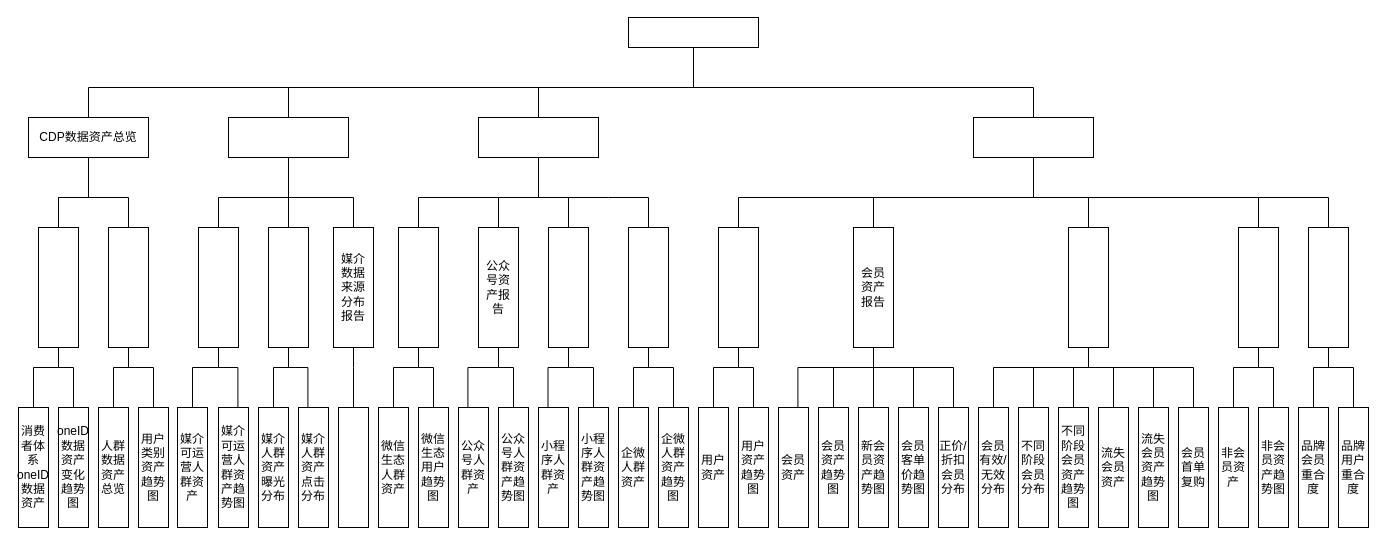
The diagram is 1386 pixels wide and 545 high, and some of its shapes have lost their labels. Here are the shapes that lost their labels. From the top down, the centre of each, then its label:
(693,32): D ash board 看板 功能
(288,137): 媒介资产看板
(538,137): 微信生态人群看板
(1033,137): 用户资产看板
(58,287): 消费 者体 系OneID数据 资产
(128,287): 人群 数据 资产 总览
(218,287): 媒介 可运 营资 产报 告
(288,287): 媒介 人群 类型 分布 报告
(418,287): 微信 生态 资产 报告
(568,287): 小程 序资 产报 告
(648,287): 企微 资产 报告
(738,287): 用户 资产 报告
(1088,287): CRM指标 资产 报告
(1258,287): 非会 员资 产报 告
(1328,287): 品牌 重合 度报 告
(353,467): 媒介数据资产来源
